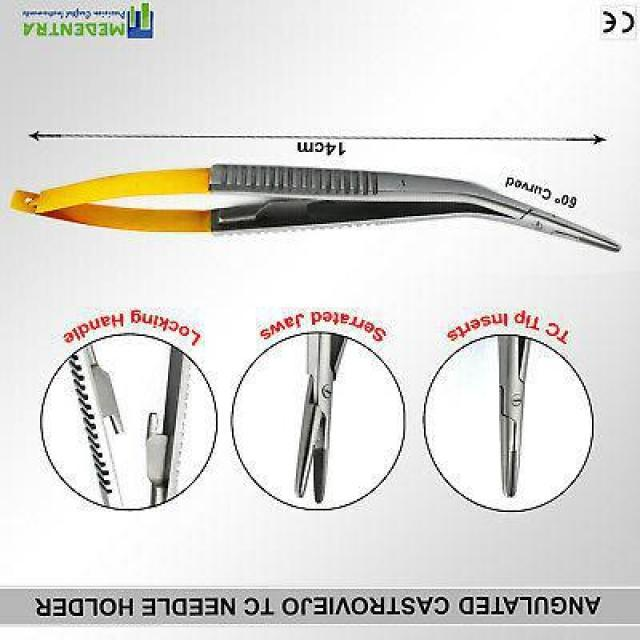Castroviejo: (5, 158, 622, 260), (66, 341, 196, 509), (292, 336, 351, 507), (492, 339, 534, 506)
